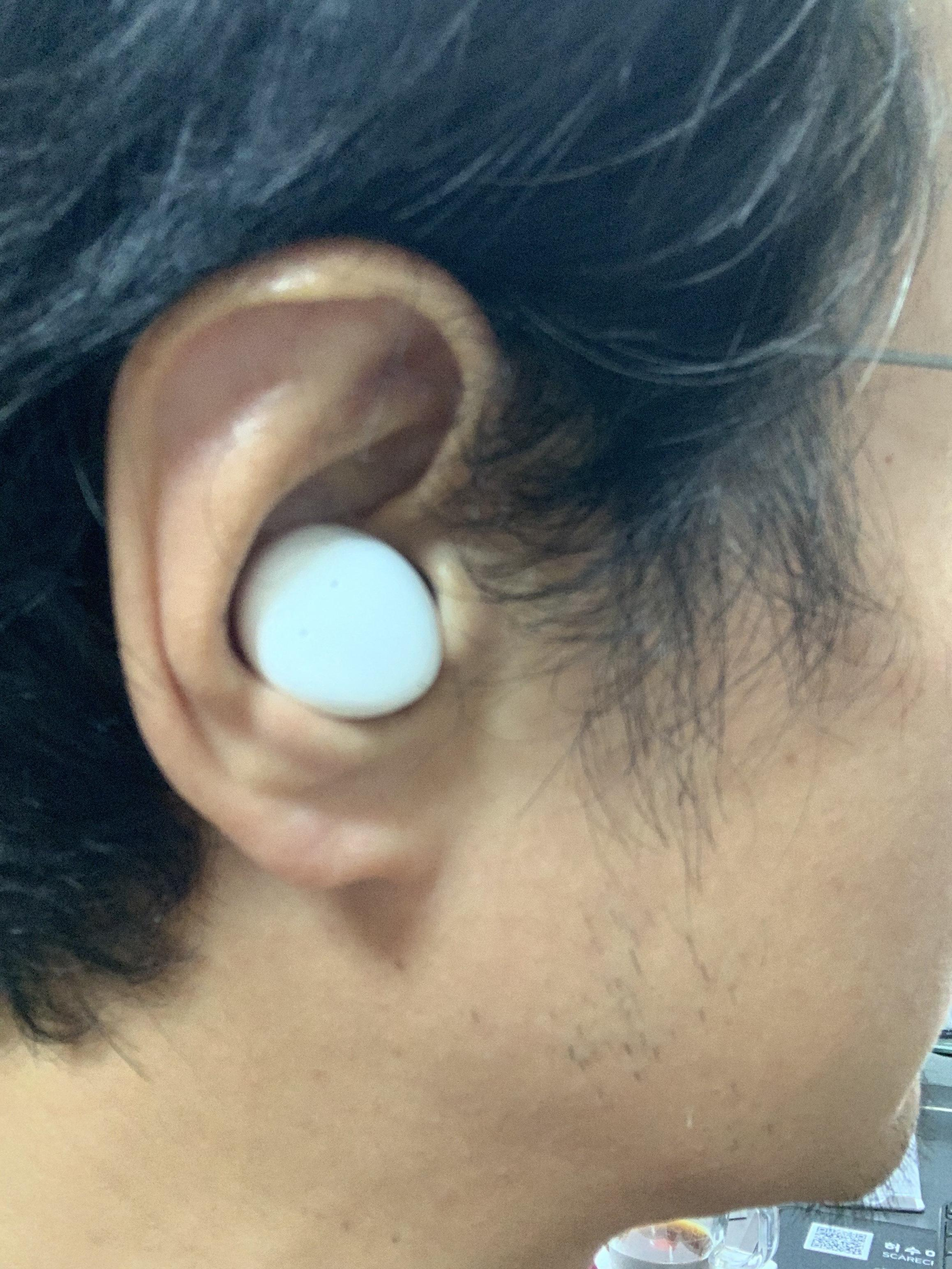earphone: (230, 509, 471, 736)
